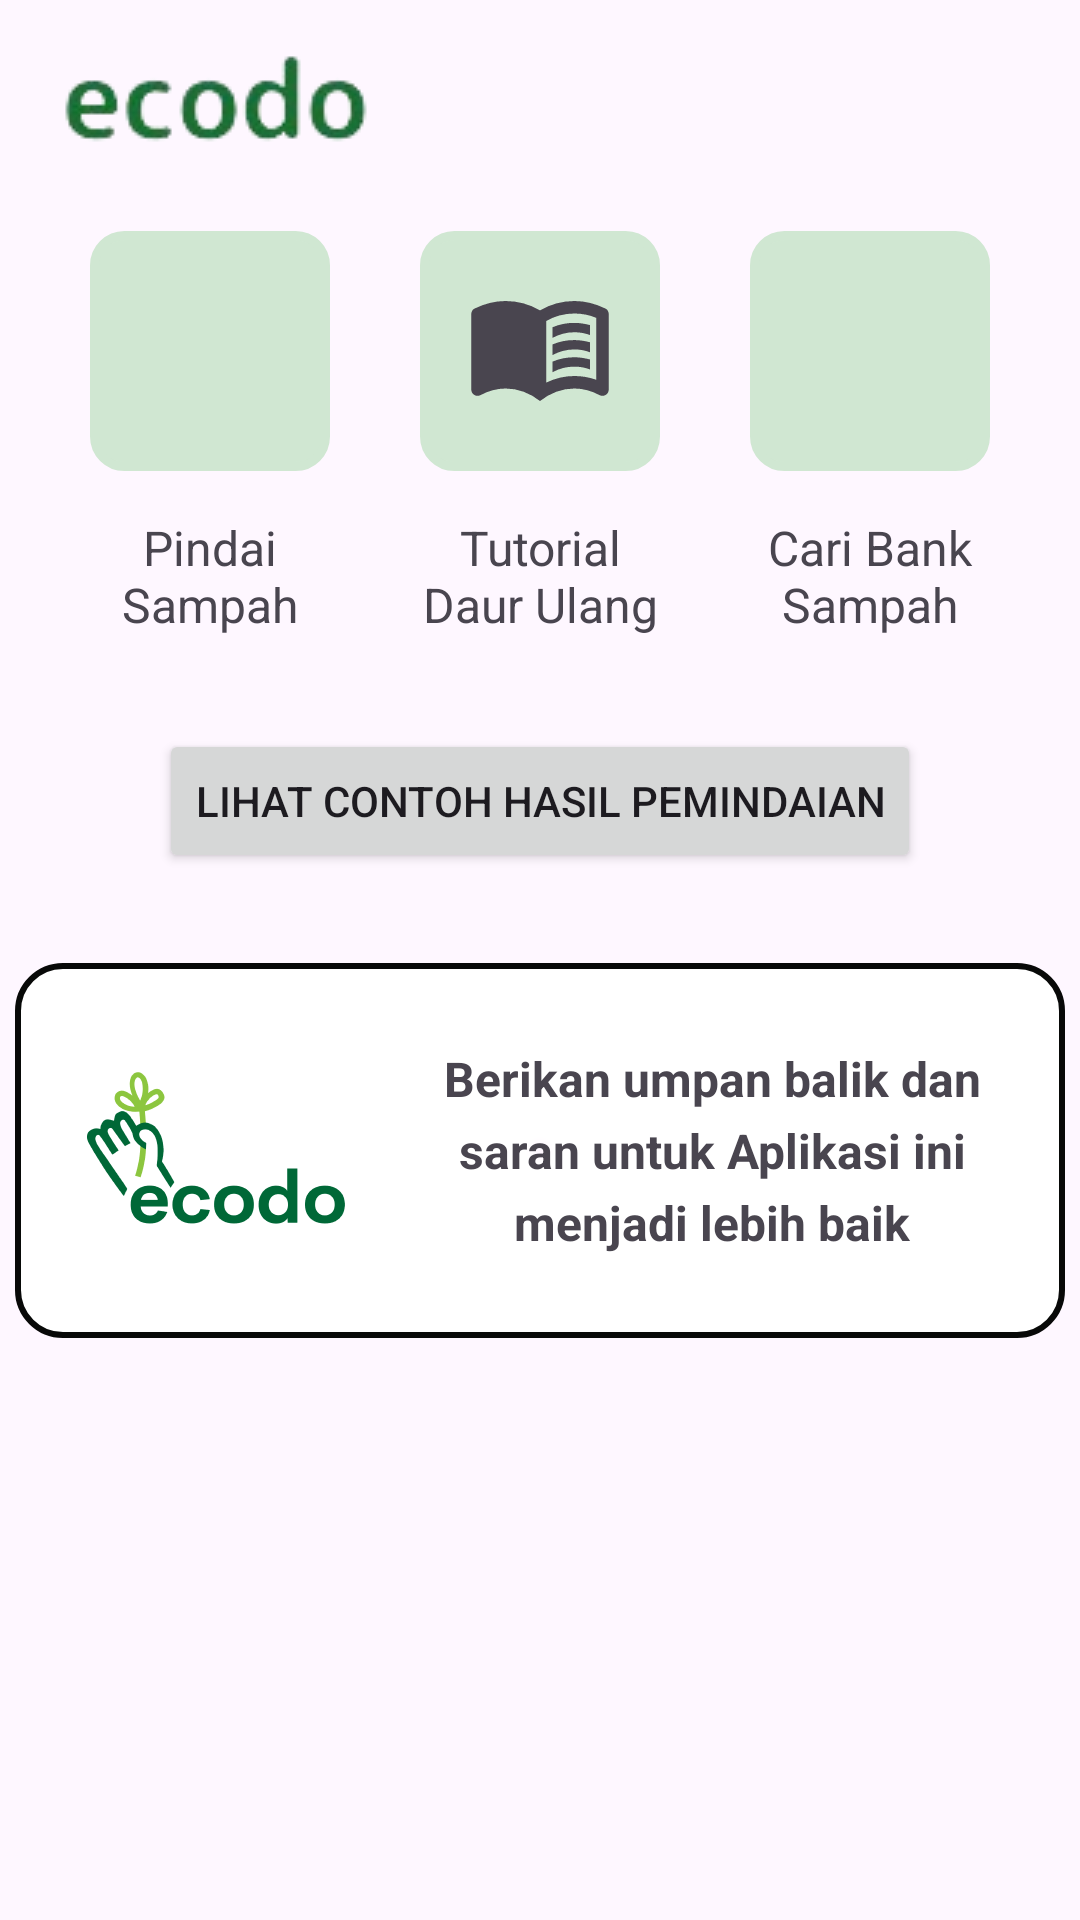

Named icons in this screenshot (1080 × 1920) and their bounding boxes, (left=x1, top=y1, right=x2, bottom=y2):
book: (left=471, top=301, right=609, bottom=401)
